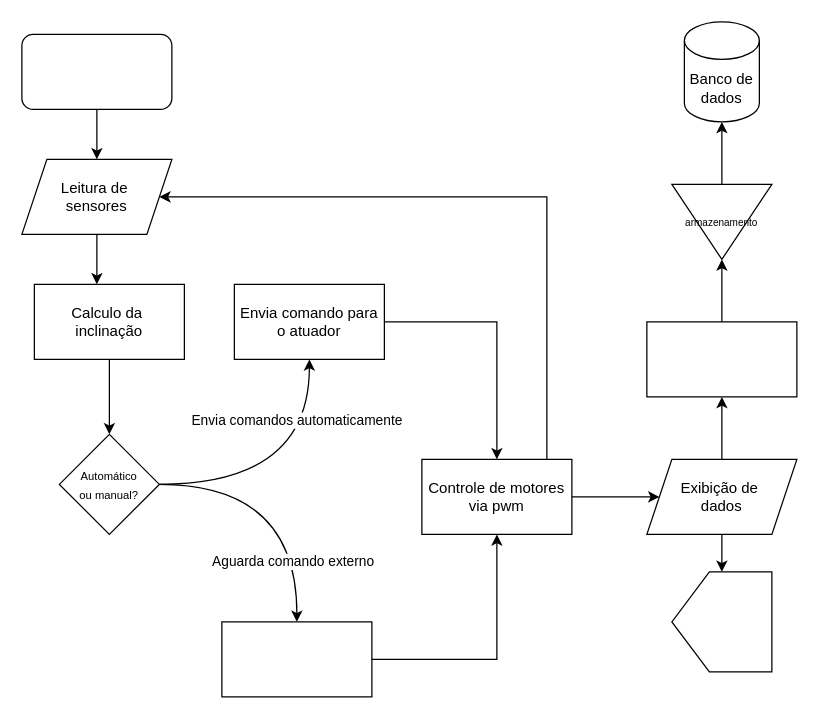
The diagram is 819 pixels wide and 719 high, and some of its shapes have lost their labels. Here are the shapes that lost their labels. From the top down, the box of each, then its label:
(21, 33, 172, 109): Inicio
(646, 321, 797, 397): Exibição no aplicativo
(671, 571, 772, 672): Display
(221, 621, 372, 697): Recebe comando externo via aplicativo ou knob externo
